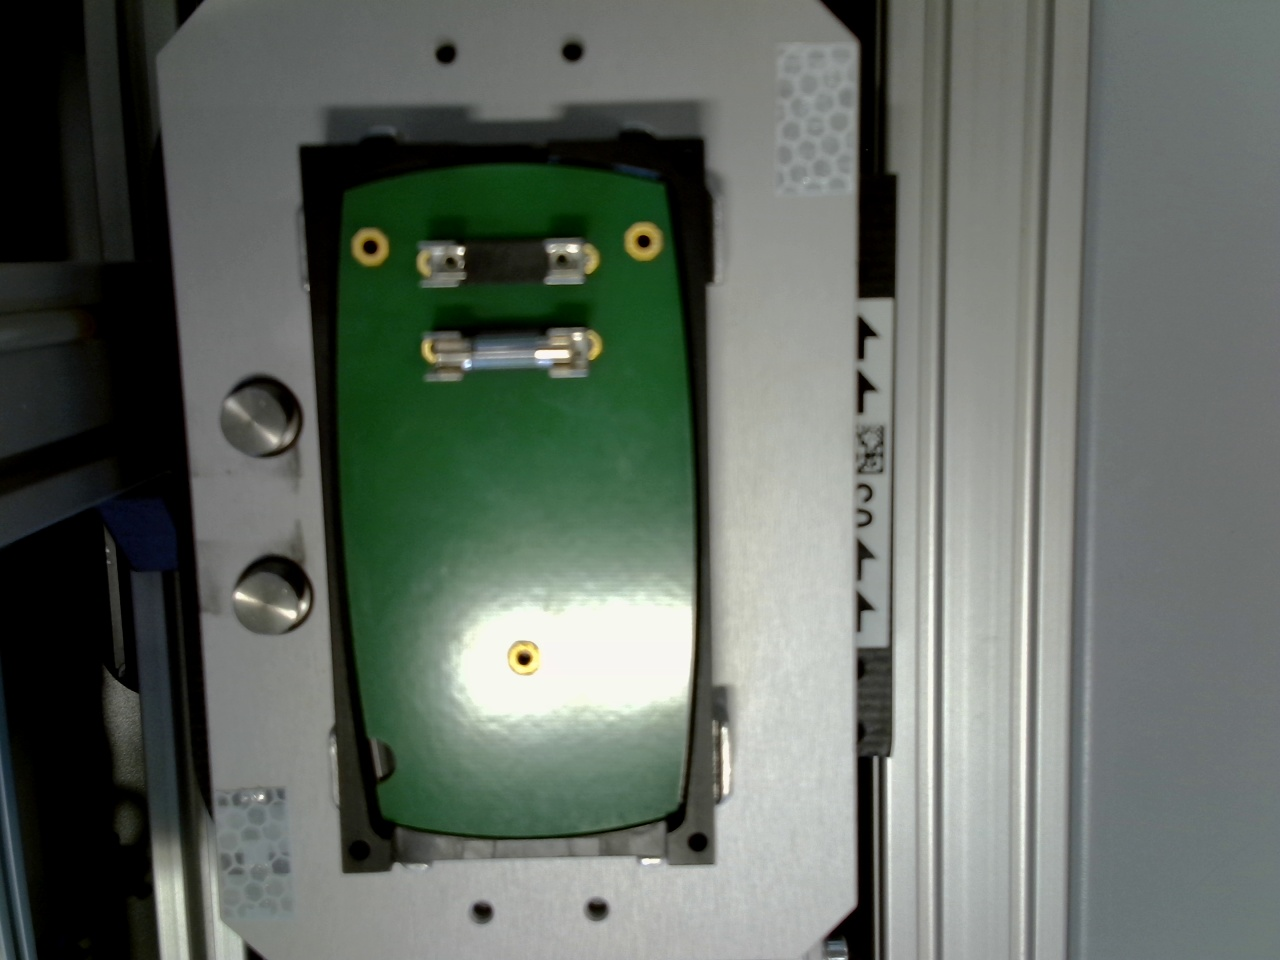Onefuse: (431, 326, 578, 375)
